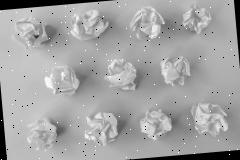paper: (10, 14, 50, 51), (190, 100, 228, 138), (68, 8, 110, 41), (82, 110, 118, 148), (127, 4, 165, 40), (102, 57, 137, 93), (138, 108, 172, 142), (43, 64, 79, 96), (25, 116, 58, 150), (158, 54, 191, 88), (180, 0, 212, 34)
